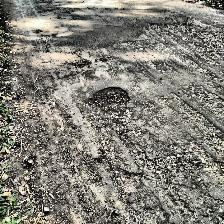pothole: (85, 86, 131, 110)
